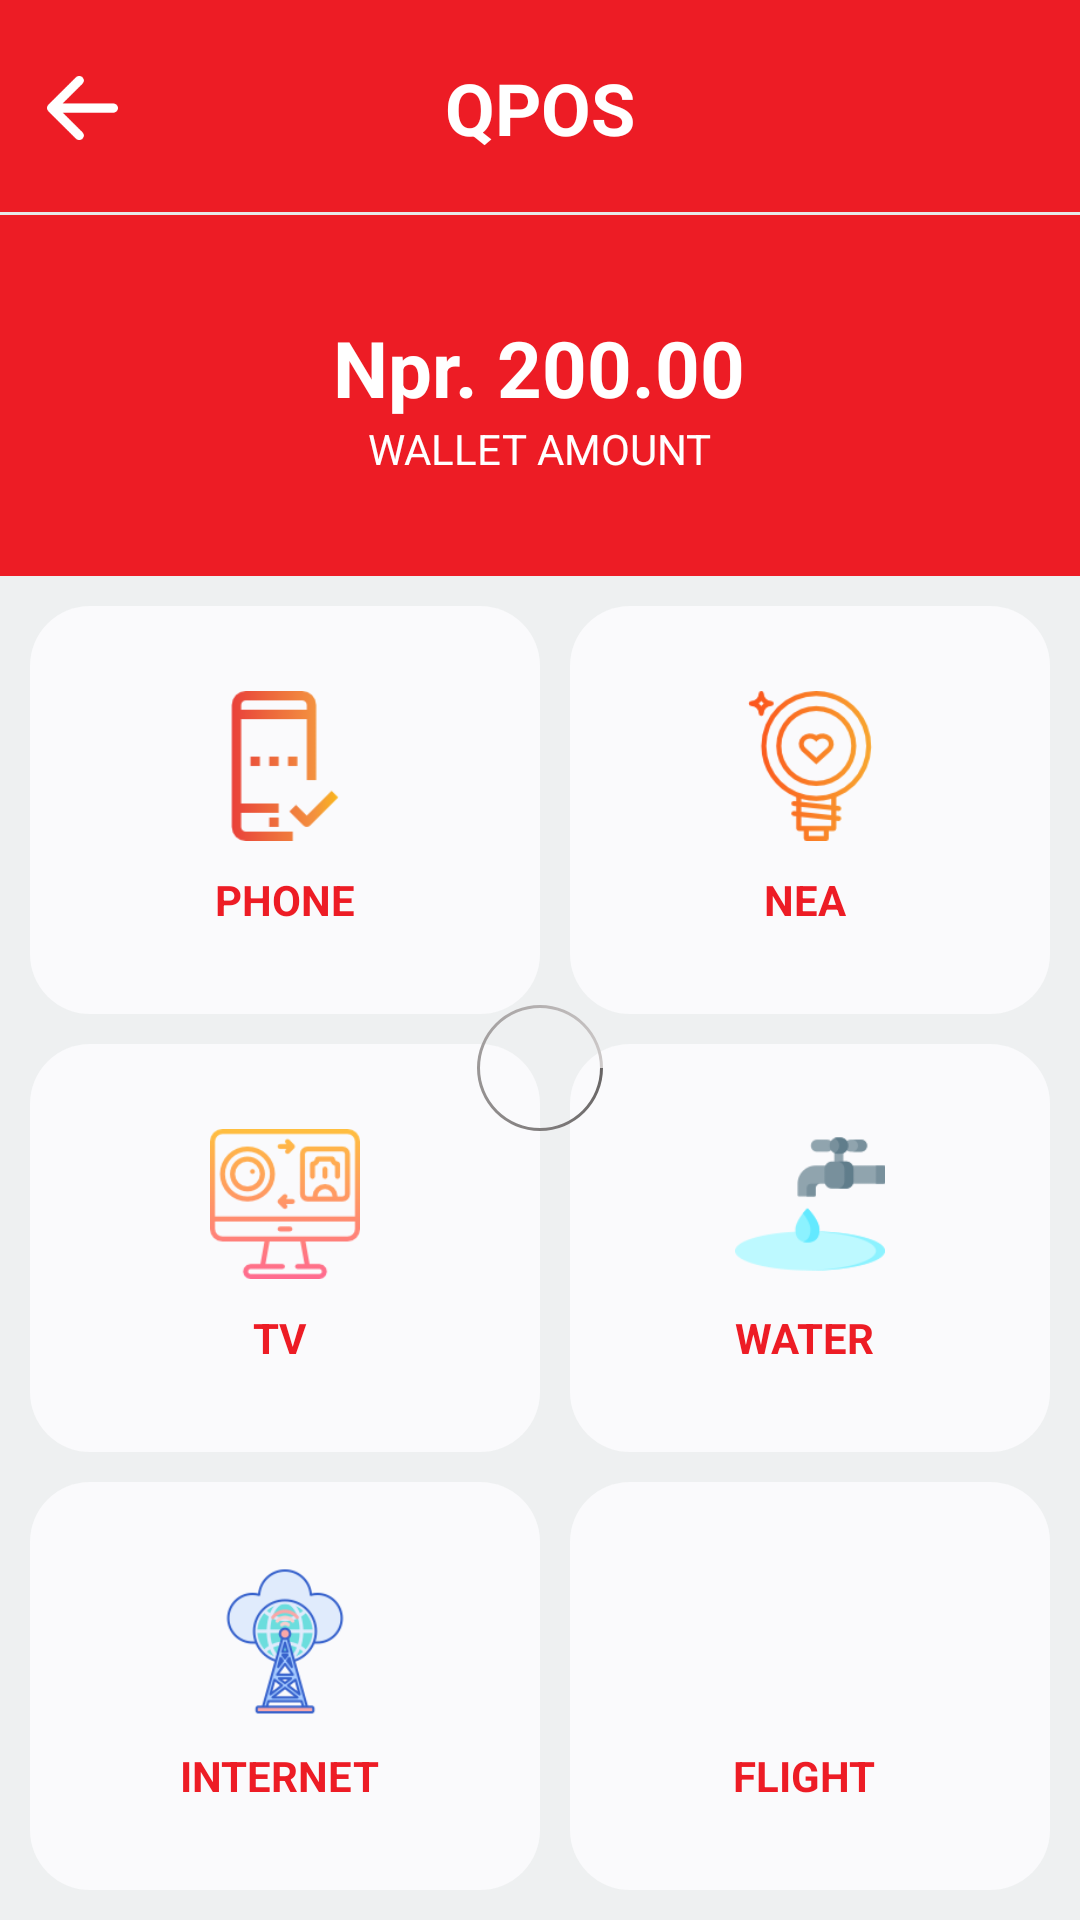

Icon bounding boxes for this 1080w x 1920h phone screenshot, format (left=x1, top=y1, right=x2, bottom=y2):
back: (left=47, top=76, right=118, bottom=140)
isp: (left=226, top=1569, right=344, bottom=1714)
